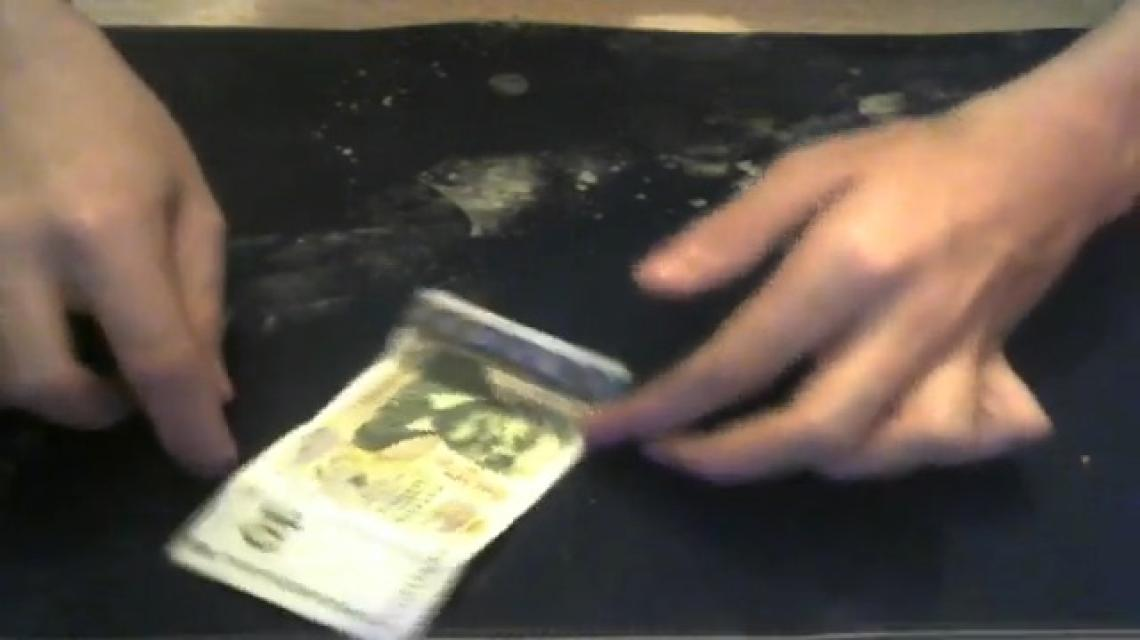10leva: (164, 288, 634, 640)
